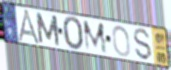A: (17, 9, 42, 46)
M: (34, 11, 61, 48), (82, 20, 109, 55)
O: (62, 16, 85, 53), (111, 24, 131, 58)
S: (132, 27, 153, 62)
